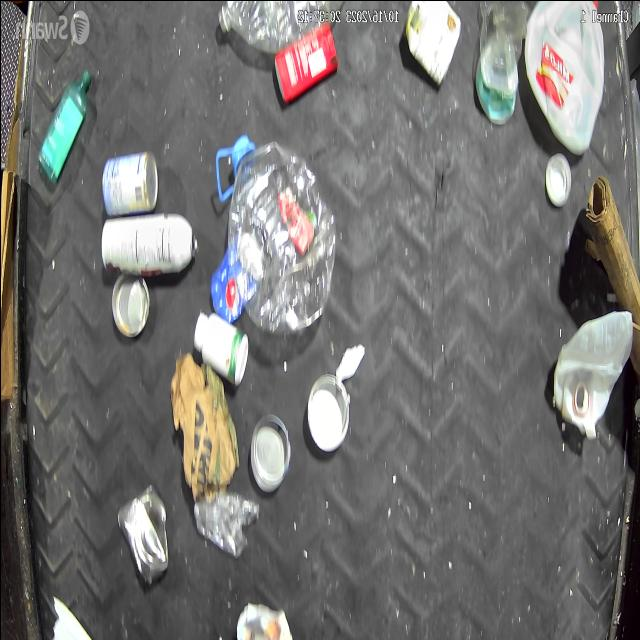can: (305, 331, 364, 454), (270, 13, 342, 108), (206, 223, 264, 329), (115, 487, 172, 582), (400, 0, 462, 84), (100, 141, 163, 221)
milk_jug: (518, 0, 608, 158), (549, 304, 630, 447)
plastic_bottle: (215, 132, 338, 338), (210, 0, 348, 62)
